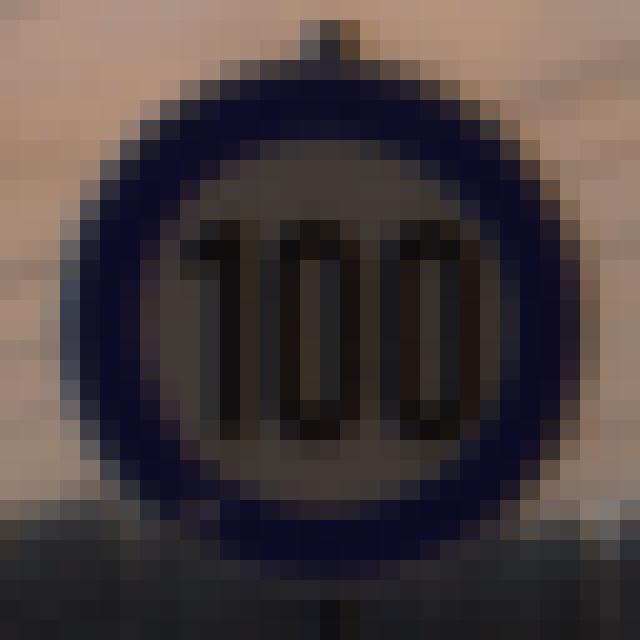SPEED LIMIT 100: (51, 69, 604, 560)
